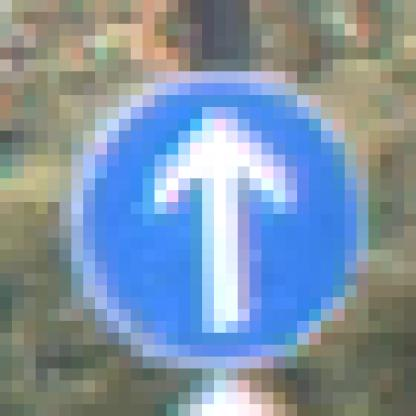AheadOnly: (72, 72, 346, 358)
